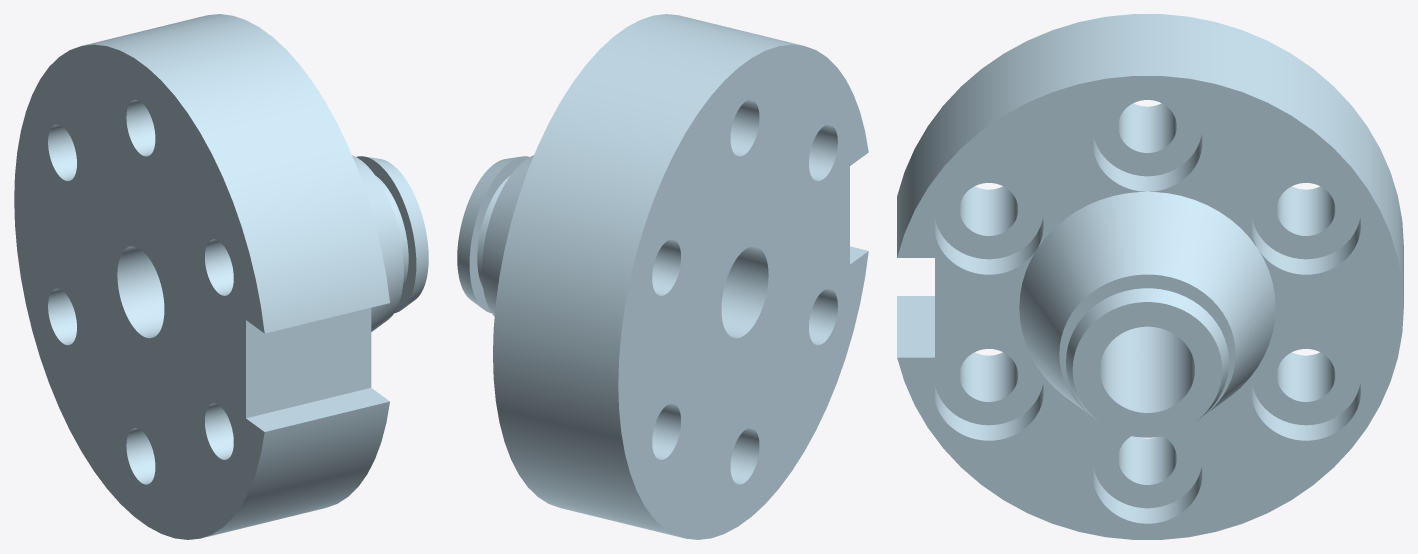
File: PartGltf.gltf
3 views of the same model, side by side, from view 1: azimuth 30°, elevation 25°; view 2: azimuth 150°, elevation 25°; view 3: azimuth 270°, elevation 25° (orthographic).
Visible parts, largest first — view 1: mesh1_meshnode_1, mesh0_meshnode_0, mesh29_meshnode_29, mesh24_meshnode_24, mesh22_meshnode_22, mesh28_meshnode_28, mesh18_meshnode_18, mesh19_meshnode_19, mesh25_meshnode_25, mesh8_meshnode_8, mesh14_meshnode_14, mesh2_meshnode_2 (+3 smaller); view 2: mesh1_meshnode_1, mesh0_meshnode_0, mesh24_meshnode_24, mesh22_meshnode_22, mesh18_meshnode_18, mesh19_meshnode_19, mesh25_meshnode_25, mesh8_meshnode_8, mesh2_meshnode_2, mesh11_meshnode_11, mesh5_meshnode_5, mesh14_meshnode_14 (+1 smaller); view 3: mesh23_meshnode_23, mesh0_meshnode_0, mesh22_meshnode_22, mesh17_meshnode_17, mesh24_meshnode_24, mesh9_meshnode_9, mesh12_meshnode_12, mesh15_meshnode_15, mesh3_meshnode_3, mesh6_meshnode_6, mesh26_meshnode_26, mesh21_meshnode_21 (+14 smaller).
Part boxes in pixels (x1,y1,x2,y2): mesh1_meshnode_1: (14, 44, 264, 539); mesh0_meshnode_0: (83, 14, 389, 537); mesh29_meshnode_29: (246, 308, 371, 418); mesh24_meshnode_24: (117, 246, 164, 338); mesh22_meshnode_22: (352, 155, 403, 331); mesh28_meshnode_28: (246, 388, 389, 431); mesh18_meshnode_18: (367, 157, 428, 308); mesh19_meshnode_19: (356, 156, 416, 313); mesh25_meshnode_25: (126, 428, 155, 484); mesh8_meshnode_8: (126, 100, 155, 156); mesh14_meshnode_14: (48, 288, 76, 345); mesh2_meshnode_2: (205, 403, 233, 459); mesh1_meshnode_1: (618, 44, 868, 539); mesh0_meshnode_0: (493, 14, 803, 537); mesh24_meshnode_24: (721, 246, 768, 338); mesh22_meshnode_22: (482, 155, 533, 316); mesh18_meshnode_18: (457, 157, 518, 308); mesh19_meshnode_19: (469, 156, 529, 313); mesh25_meshnode_25: (730, 428, 759, 484); mesh8_meshnode_8: (730, 100, 759, 156); mesh2_meshnode_2: (809, 288, 837, 345); mesh11_meshnode_11: (652, 239, 680, 295); mesh5_meshnode_5: (809, 124, 837, 181); mesh14_meshnode_14: (652, 403, 680, 459); mesh23_meshnode_23: (897, 76, 1403, 539); mesh0_meshnode_0: (897, 14, 1403, 305); mesh22_meshnode_22: (1019, 191, 1275, 413); mesh17_meshnode_17: (1072, 302, 1222, 437); mesh24_meshnode_24: (1100, 326, 1194, 412); mesh9_meshnode_9: (1093, 92, 1201, 176); mesh12_meshnode_12: (1252, 175, 1360, 259); mesh15_meshnode_15: (1252, 341, 1360, 425); mesh3_meshnode_3: (934, 341, 1042, 425); mesh6_meshnode_6: (934, 175, 1042, 259); mesh26_meshnode_26: (1093, 432, 1201, 508); mesh21_meshnode_21: (1059, 274, 1235, 416).
Bounding box in the file's own units: 0.04 × 0.0699 × 0.0692.
